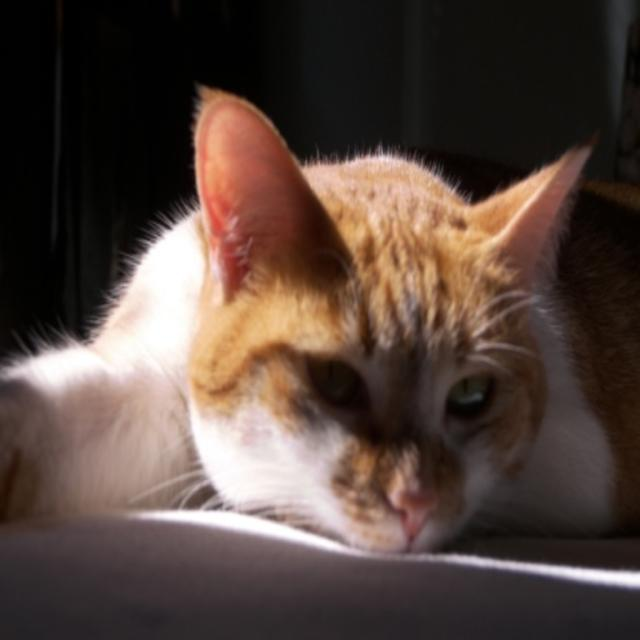Cat: (0, 81, 639, 555)
